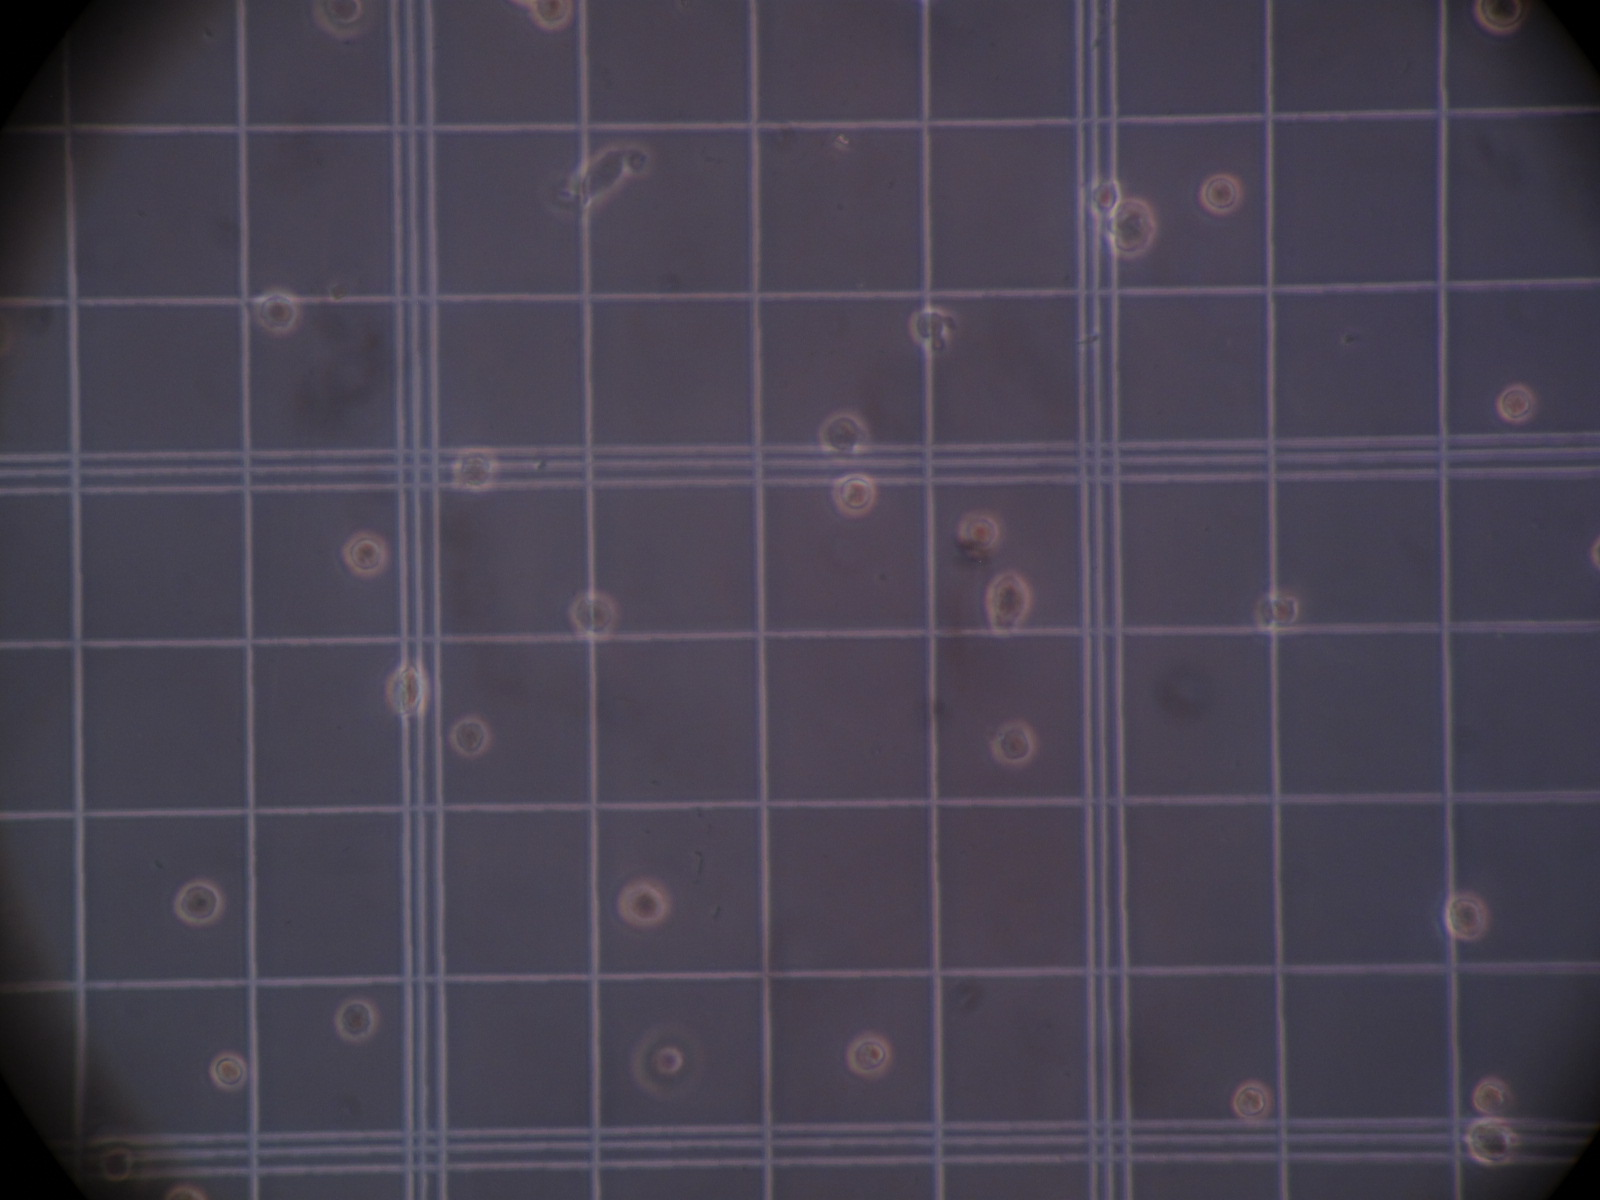hemo: (632, 1027, 687, 1099), (1105, 199, 1154, 258), (984, 571, 1032, 632), (619, 875, 671, 928), (1464, 1116, 1517, 1165), (569, 592, 617, 642), (386, 662, 430, 715), (1444, 889, 1487, 943), (341, 529, 388, 579), (954, 511, 1003, 555), (990, 720, 1036, 766), (175, 880, 222, 925), (831, 471, 877, 517), (818, 413, 864, 458), (847, 1031, 889, 1079), (256, 290, 301, 334), (310, 1, 362, 38), (454, 447, 495, 493), (1199, 173, 1242, 216), (1256, 592, 1301, 633), (449, 717, 491, 758), (335, 1000, 375, 1042), (1231, 1080, 1272, 1121), (1495, 384, 1534, 424), (907, 306, 947, 344), (1471, 1076, 1511, 1114), (209, 1053, 248, 1090), (1477, 1, 1523, 33), (528, 1, 574, 32), (98, 1146, 135, 1182), (1089, 180, 1123, 216)
